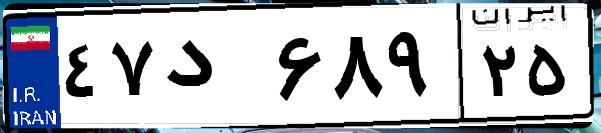2: (475, 38, 525, 113)
4: (57, 26, 110, 100)
5: (525, 38, 570, 115)
6: (270, 28, 330, 110)
7: (110, 28, 158, 98)
8: (330, 28, 385, 110)
9: (385, 28, 445, 110)
د: (158, 20, 270, 120)
